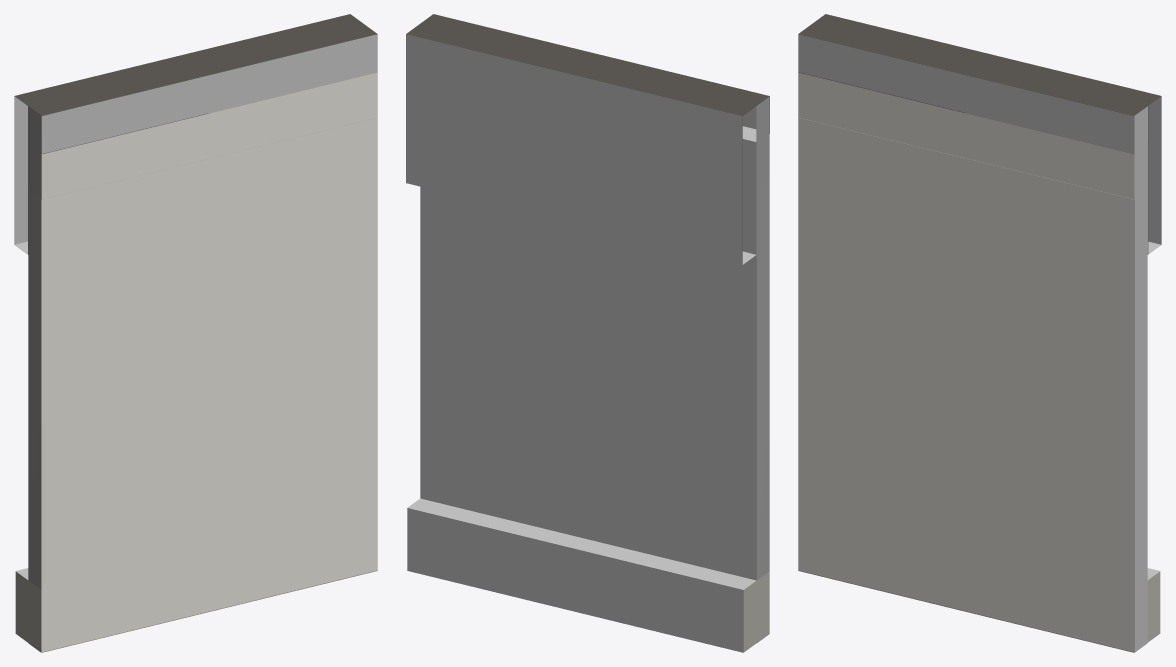
File: police_station_wall_back_type1.FBX
3 views of the same model, side by side, from view 1: azimuth 30°, elevation 25°; view 2: azimuth 150°, elevation 25°; view 3: azimuth 330°, elevation 25° (orthographic).
Visible parts, largest first — view 1: police_station_wall_back_type1_001; view 2: police_station_wall_back_type1_001; view 3: police_station_wall_back_type1_001.
Boxes of the visible parts, box(x1,y1,x2,y2) form: police_station_wall_back_type1_001: box(14, 14, 377, 652); police_station_wall_back_type1_001: box(406, 14, 769, 652); police_station_wall_back_type1_001: box(798, 14, 1161, 652).
Size of the model in its own units: 924 by 1411 by 131.
1 material, 1 textured.
